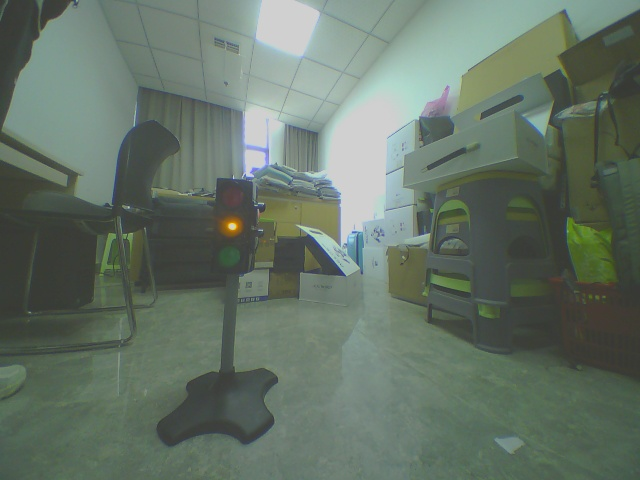Yellow: (201, 167, 267, 288)
